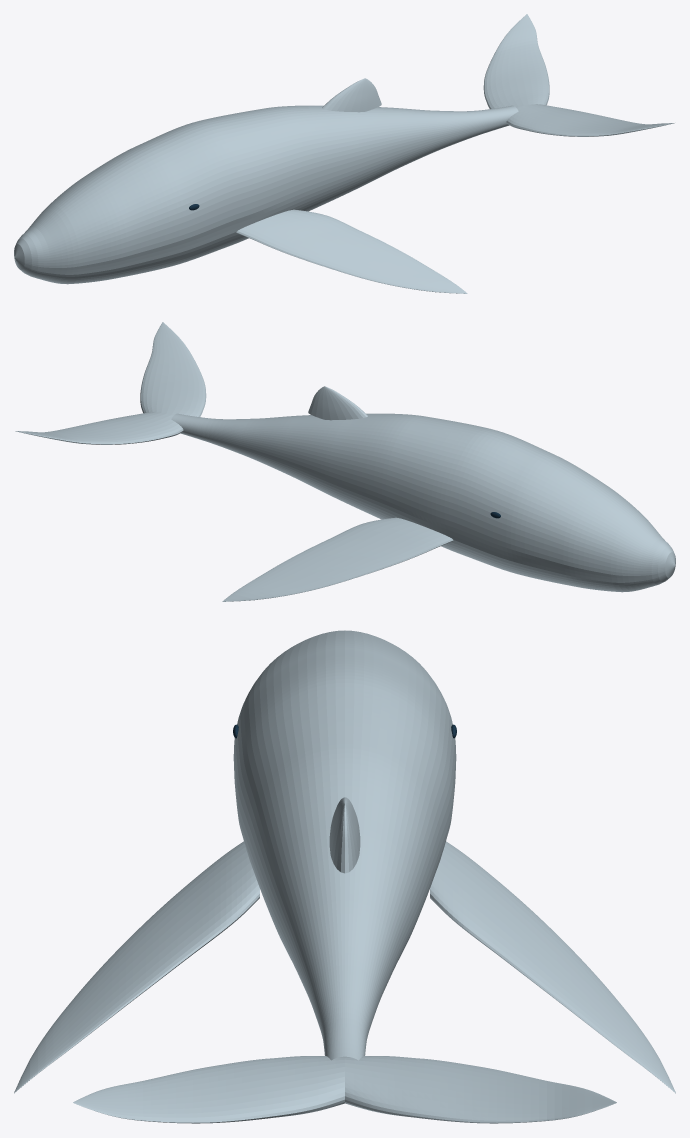
The model's file is dm_creature_base.glb.
3 renders of one model, top to bottom at view 1: azimuth 30°, elevation 25°; view 2: azimuth 150°, elevation 25°; view 3: azimuth 270°, elevation 25°, orthographic. The views are drawn at different scales.
Parts seen in each view (by area): view 1: DM_Body, DM_Pectoral_L, DM_Fluke_R, DM_Fluke_L, DM_Dorsal; view 2: DM_Body, DM_Pectoral_R, DM_Fluke_L, DM_Fluke_R, DM_Dorsal; view 3: DM_Body, DM_Pectoral_L, DM_Pectoral_R, DM_Fluke_L, DM_Fluke_R, DM_Dorsal.
Part boxes in pixels (left/top/right/bottom): DM_Body: left=14, top=105, right=518, bottom=284; DM_Pectoral_L: left=236, top=209, right=467, bottom=293; DM_Fluke_R: left=483, top=14, right=549, bottom=108; DM_Fluke_L: left=506, top=104, right=674, bottom=136; DM_Dorsal: left=322, top=78, right=381, bottom=112; DM_Body: left=171, top=413, right=675, bottom=592; DM_Pectoral_R: left=222, top=517, right=453, bottom=601; DM_Fluke_L: left=140, top=322, right=206, bottom=416; DM_Fluke_R: left=15, top=412, right=183, bottom=444; DM_Dorsal: left=308, top=386, right=367, bottom=420; DM_Body: left=233, top=630, right=456, bottom=1060; DM_Pectoral_L: left=14, top=841, right=259, bottom=1093; DM_Pectoral_R: left=430, top=841, right=675, bottom=1093; DM_Fluke_L: left=73, top=1056, right=344, bottom=1123; DM_Fluke_R: left=345, top=1056, right=616, bottom=1123; DM_Dorsal: left=329, top=797, right=360, bottom=873.
Size of the model in its own units: 11.53 by 2.86 by 6.16.
